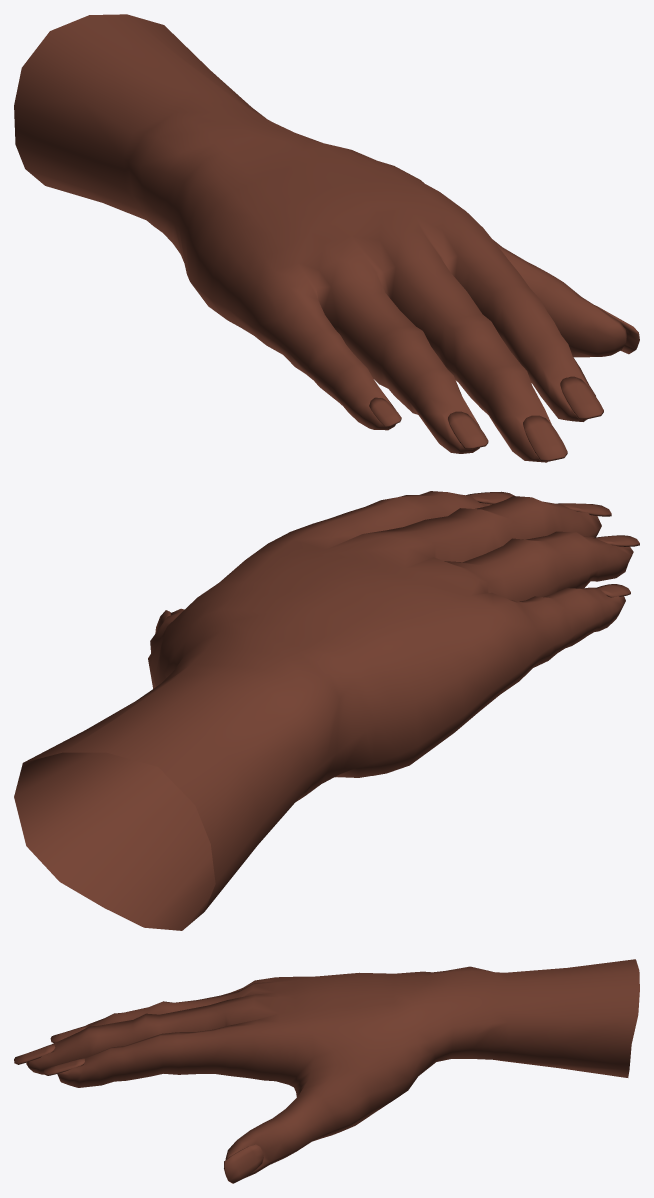
The model's file is 3_1_HandSmoothRightBack.obj.
The picture shows the model from 3 angles, top to bottom: view 1: azimuth 30°, elevation 25°; view 2: azimuth 150°, elevation 25°; view 3: azimuth 270°, elevation 25°; orthographic projection. The views are drawn at different scales.
Visible parts, largest first — view 1: hand_femme_rachel_polySurface1130.001; view 2: hand_femme_rachel_polySurface1130.001; view 3: hand_femme_rachel_polySurface1130.001.
Boxes of the visible parts, x1,y1,x2,y2 form: hand_femme_rachel_polySurface1130.001: (14,14,639,462); hand_femme_rachel_polySurface1130.001: (14,491,639,930); hand_femme_rachel_polySurface1130.001: (14,959,639,1183).
Bounding box in the file's own units: 0.0793 × 0.0399 × 0.1742.
